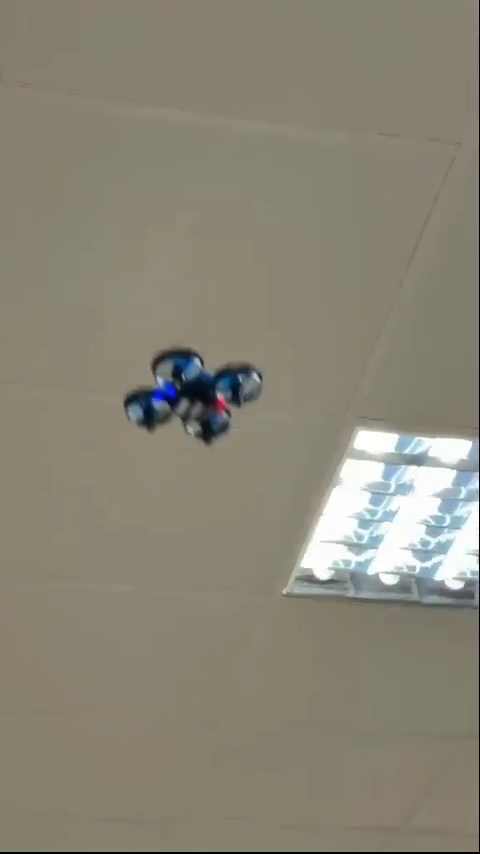drone: (119, 351, 270, 446)
